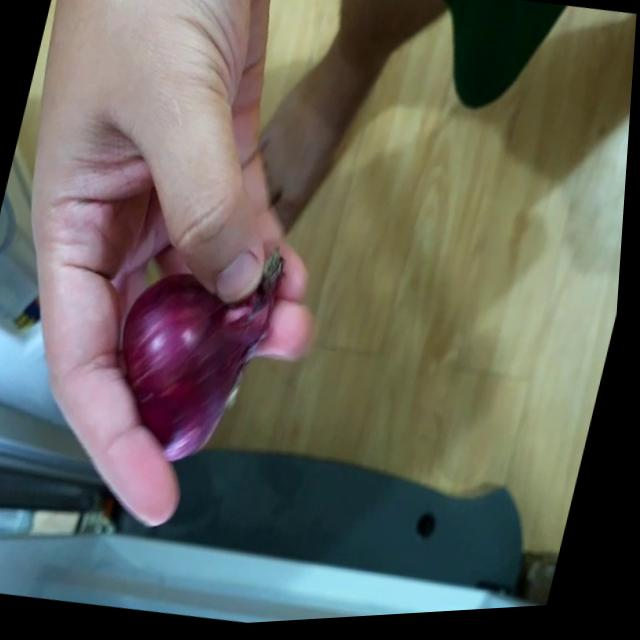onion: (102, 267, 286, 483)
